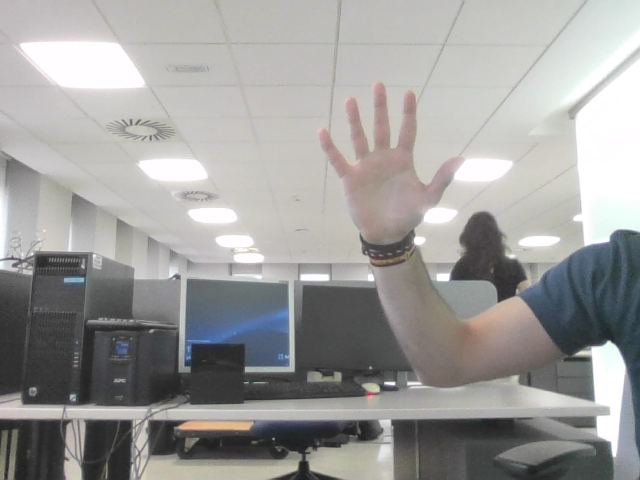Mano Abierta: (326, 94, 447, 212)
